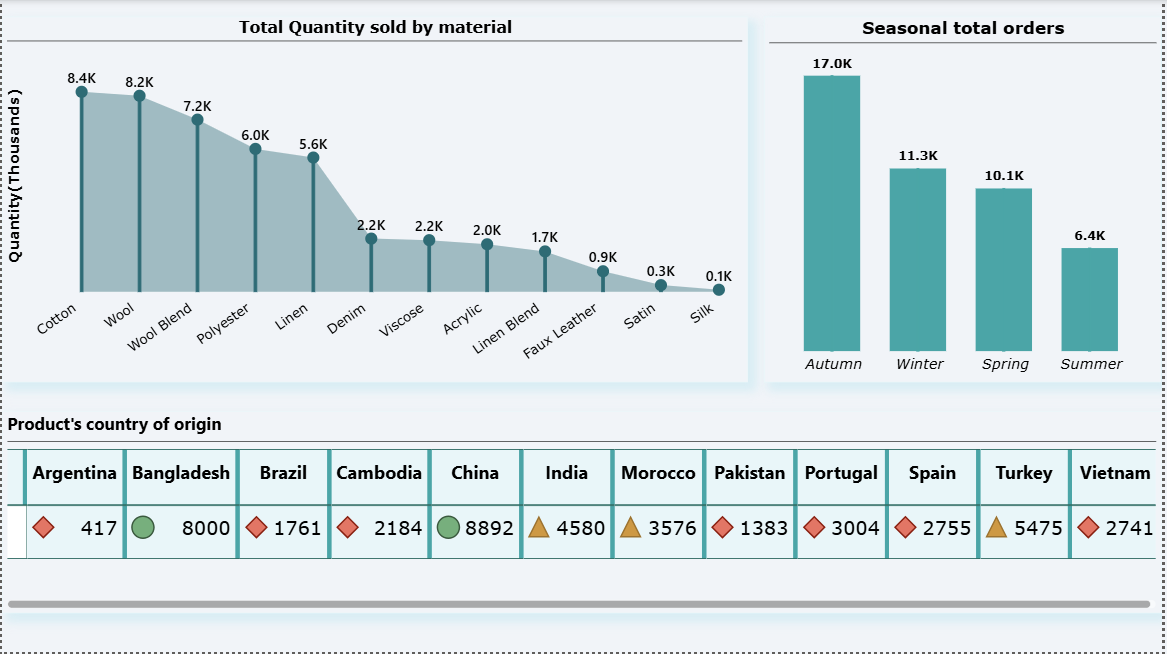

Layout of this report page (visuals, bound fields, positions):
{"tool":"powerbi","page":{"name":"Product insights","canvas":[1280,720],"ordinal":3},"visuals":[{"type":"columnChart","title":"Seasonal total orders","fields":{"Category":["Zara_sales_data.season"],"Y":["Measures Table.Total Quantity sold"]},"box":[841.5,18.2,439,404.2],"z":0},{"type":"lineChart","fields":{"Category":["Zara_inventory.material"],"Y":["Measures Table.Total Quantity sold"]},"box":[0,18.2,823.3,404.2],"z":1000},{"type":"pivotTable","title":"Product''s country of origin","fields":{"Columns":["Zara_inventory.origin"],"Values":["Sum(Zara_sales_data. quantity)"]},"box":[0,453.9,1280.5,223.6],"z":2000}]}

Visuals, with their boxes in screenshot pixels (x1, y1, x2, y2), scaled from the page's 1280x720 canvas onto the 1167x654 screenshot:
"Seasonal total orders" columnChart: bbox=[767, 17, 1166, 384]
lineChart - Zara_inventory.material x Measures Table.Total Quantity sold: bbox=[0, 17, 751, 384]
"Product''s country of origin" pivotTable: bbox=[0, 412, 1166, 615]
